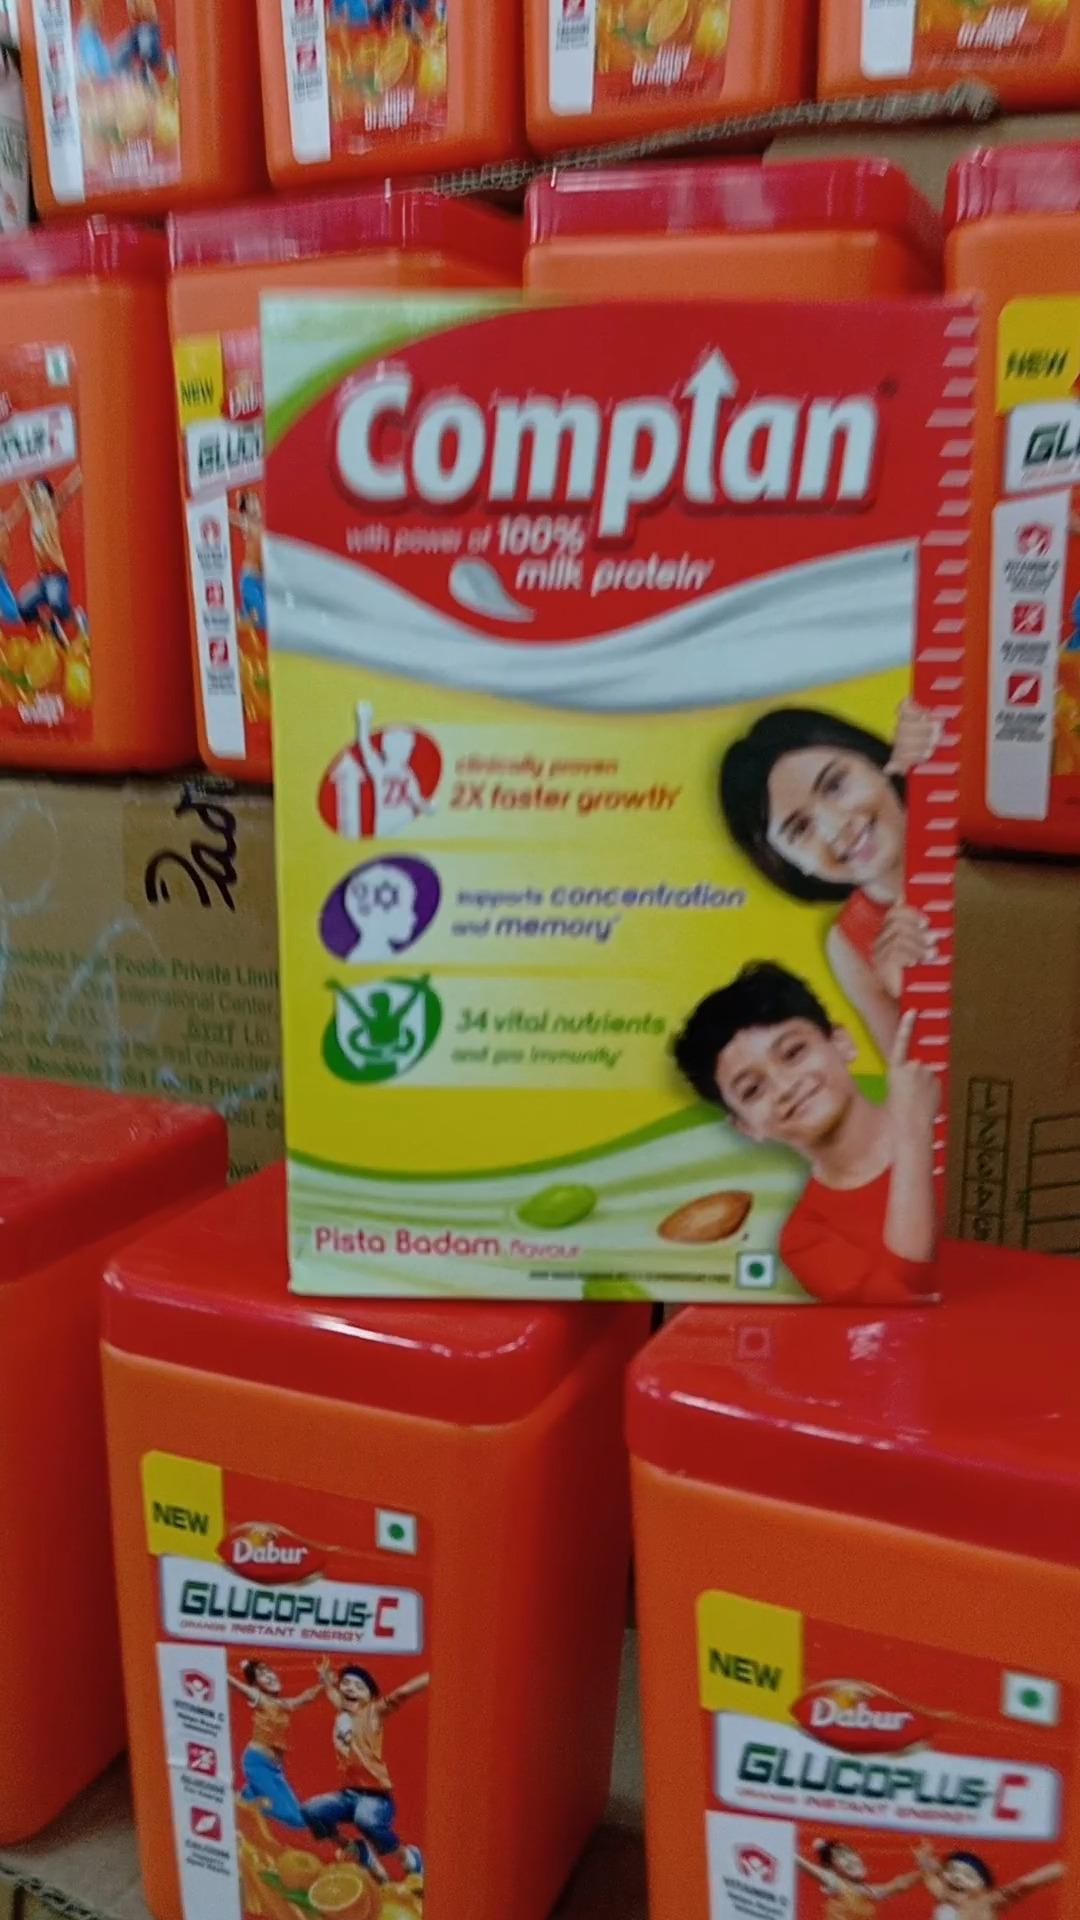COMPLAN_PISTA_BADAM_500_GMS_PACK: (266, 302, 932, 1299)
